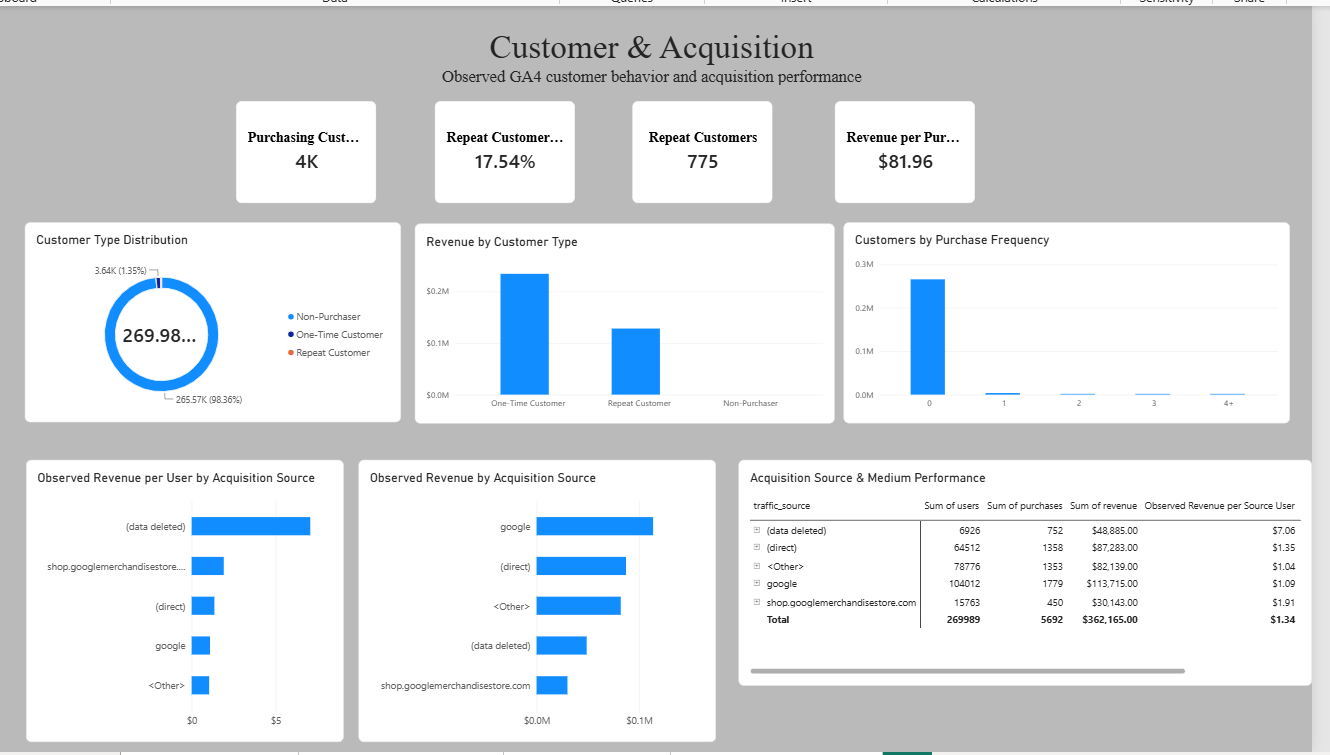

The dashboard page shown, as its layout file describes it:
{"tool":"powerbi","page":{"name":"Customer & Acquisition","canvas":[1920,1080],"ordinal":3},"visuals":[{"type":"textbox","box":[260.6,32.6,1406.1,105],"z":0},{"type":"cardVisual","fields":{"Data":["Funnel_User.Purchasing Customers"]},"box":[361.9,138.1,203.3,148.9],"z":1,"group":"g1"},{"type":"cardVisual","fields":{"Data":["Funnel_User.Repeat Customer Rate"]},"box":[649.6,137.5,203.3,148.9],"z":2,"group":"g1"},{"type":"cardVisual","fields":{"Data":["Funnel_User.Repeat Customers"]},"box":[935.5,137.5,203.3,148.9],"z":3,"group":"g1"},{"type":"cardVisual","fields":{"Data":["Funnel_User.Revenue per Purchasing Customer"]},"box":[1228.7,137.5,203.3,148.9],"z":4,"group":"g1"},{"type":"donutChart","title":"Customer Type Distribution","fields":{"Category":["Funnel_User.Customer Type"],"Y":["Count(Funnel_User.user_pseudo_id)"]},"box":[56.1,313.1,544.7,289.5],"z":5},{"type":"clusteredColumnChart","title":"Revenue by Customer Type","fields":{"Category":["Funnel_User.Customer Type"],"Y":["Funnel_User.Observed Revenue"]},"box":[620.7,314.9,608,289.5],"z":6},{"type":"clusteredColumnChart","title":"Customers by Purchase Frequency","fields":{"Category":["Funnel_User.Purchase Frequency Group"],"Y":["Count(Funnel_User.user_pseudo_id)"]},"box":[1241.4,313.1,646,291.4],"z":7},{"type":"clusteredBarChart","title":"Observed Revenue by Acquisition Source","fields":{"Category":["Funnel_Channel.traffic_source"],"Y":["Sum(Funnel_Channel.revenue)"]},"box":[539.3,656.9,517.6,409],"z":8},{"type":"clusteredBarChart","title":"Observed Revenue per User by Acquisition Source","fields":{"Category":["Funnel_Channel.traffic_source"],"Y":["Funnel_Channel.Observed Revenue per Source User"]},"box":[57.9,656.9,459.7,409],"z":9},{"type":"pivotTable","title":"Acquisition Source & Medium Performance","fields":{"Rows":["Funnel_Channel.traffic_source","Funnel_Channel.traffic_medium"],"Values":["Sum(Funnel_Channel.users)","Sum(Funnel_Channel.purchases)","Sum(Funnel_Channel.revenue)","Funnel_Channel.Observed Revenue per Source User","Funnel_Channel.Observed Source AOV"]},"box":[1089.4,656.9,830.6,327.5],"z":10},{"type":"group","id":"g1","title":"Group 1","box":[361.9,137.5,1069.5,150.2],"z":11}]}

Visuals, with their boxes on the page's 1920x1080 design canvas (x1, y1, x2, y2). These are canvas units, not pixel positions in the 1330x755 screenshot, which may show the page scaled, cropped or inside an application window:
textbox: (261, 33, 1667, 138)
cardVisual - Funnel_User.Purchasing Customers: (362, 138, 565, 287)
cardVisual - Funnel_User.Repeat Customer Rate: (650, 138, 853, 286)
cardVisual - Funnel_User.Repeat Customers: (936, 138, 1139, 286)
cardVisual - Funnel_User.Revenue per Purchasing Customer: (1229, 138, 1432, 286)
"Customer Type Distribution" donutChart: (56, 313, 601, 603)
"Revenue by Customer Type" clusteredColumnChart: (621, 315, 1229, 604)
"Customers by Purchase Frequency" clusteredColumnChart: (1241, 313, 1887, 604)
"Observed Revenue by Acquisition Source" clusteredBarChart: (539, 657, 1057, 1066)
"Observed Revenue per User by Acquisition Source" clusteredBarChart: (58, 657, 518, 1066)
"Acquisition Source & Medium Performance" pivotTable: (1089, 657, 1920, 984)
"Group 1" group: (362, 138, 1431, 288)
